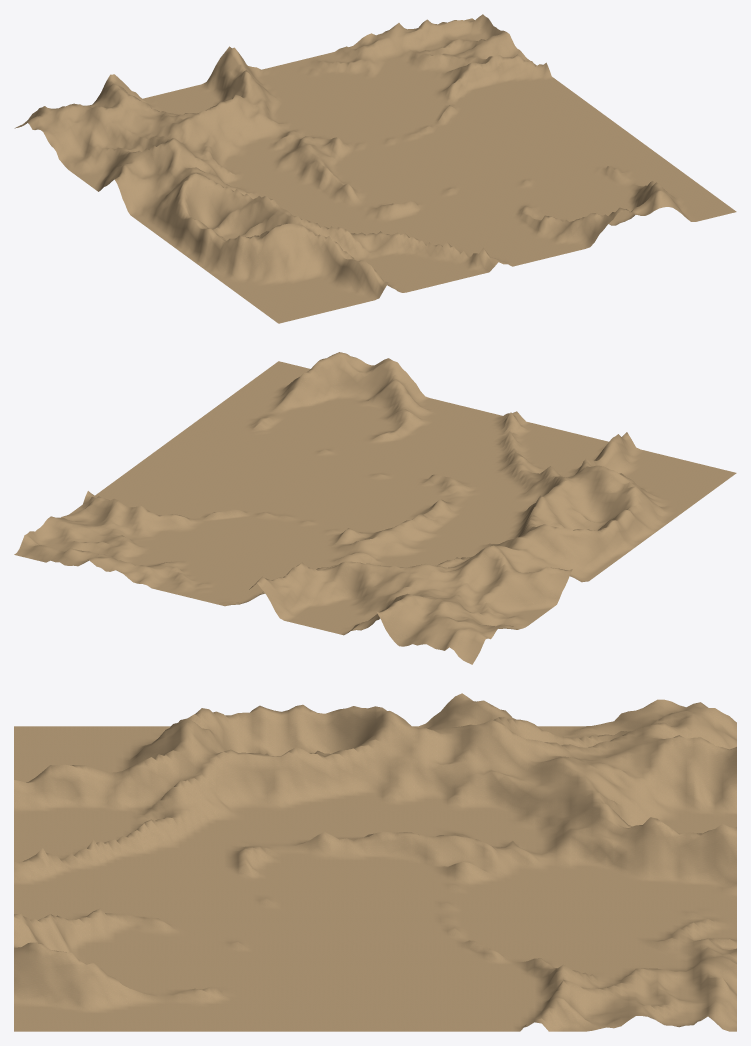
The model's file is ground.glb.
The picture shows the model from 3 angles, top to bottom: view 1: azimuth 30°, elevation 25°; view 2: azimuth 150°, elevation 25°; view 3: azimuth 270°, elevation 25°; orthographic projection. The views are drawn at different scales.
Visible parts, largest first — view 1: Landscape; view 2: Landscape; view 3: Landscape.
Part boxes in pixels (box(x1,y1,x2,y2)): Landscape: box(14, 14, 736, 323); Landscape: box(14, 352, 736, 664); Landscape: box(14, 693, 736, 1031).
Bounding box in the file's own units: 250 × 20 × 250.
1 material, 1 textured.
